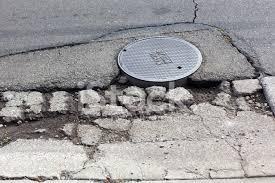crack: (219, 29, 269, 76), (91, 21, 195, 35), (0, 41, 91, 55), (228, 145, 261, 183), (84, 146, 116, 176), (179, 0, 207, 27)
pothole: (1, 80, 275, 143)
